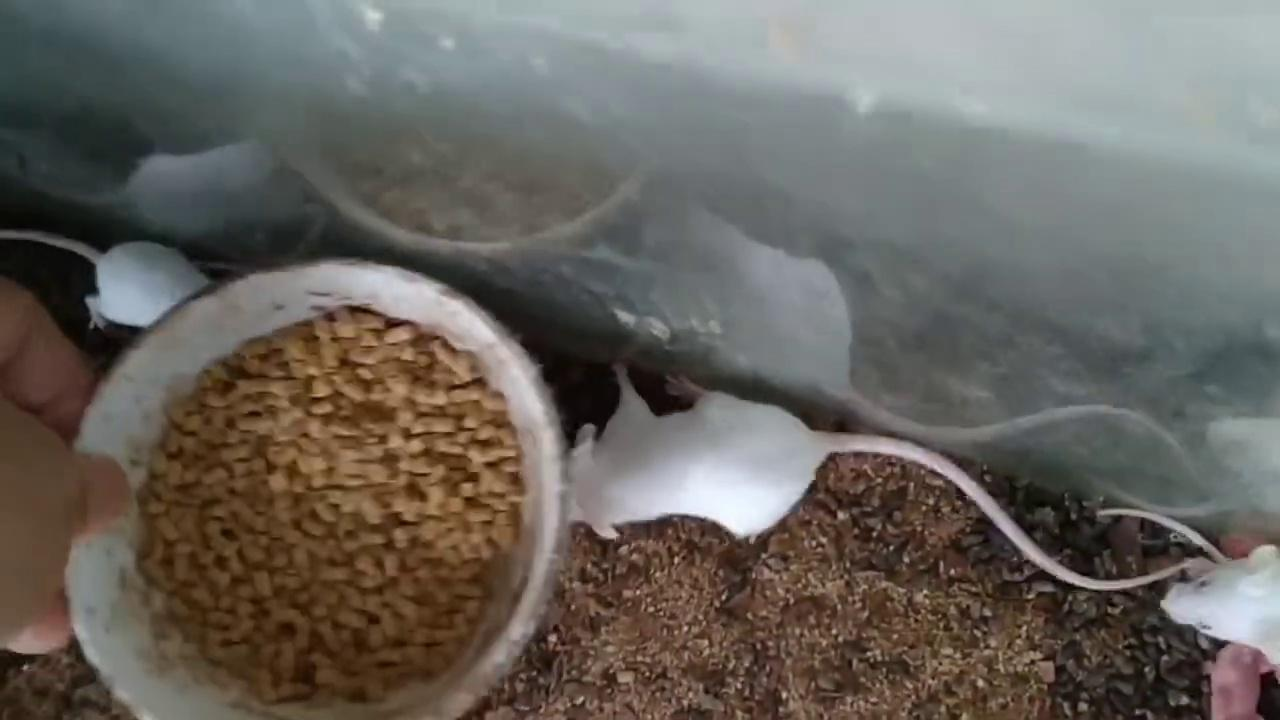rat: (570, 364, 1212, 591), (0, 229, 211, 330), (1164, 546, 1280, 682)
